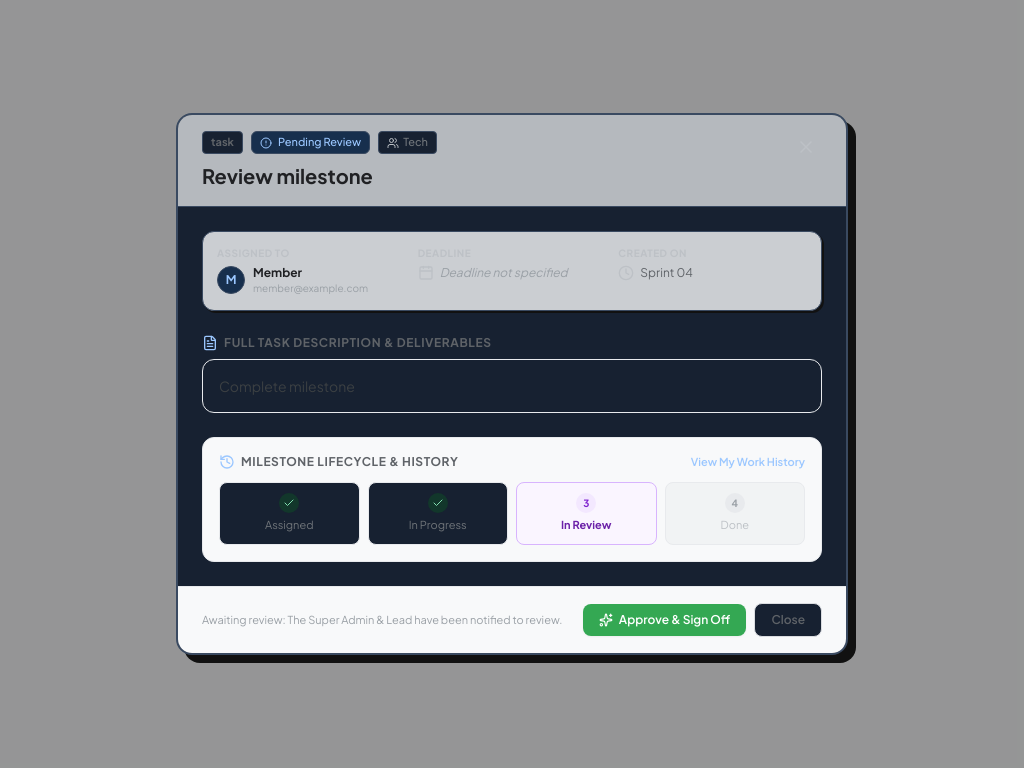
Scenario: keeps the task dialog and error visible when approval is rejected
The width and height of the screenshot is (1024, 768).
Click the button "Approve & Sign Off".
click(665, 620)  # box left=583, top=604, right=746, bottom=636
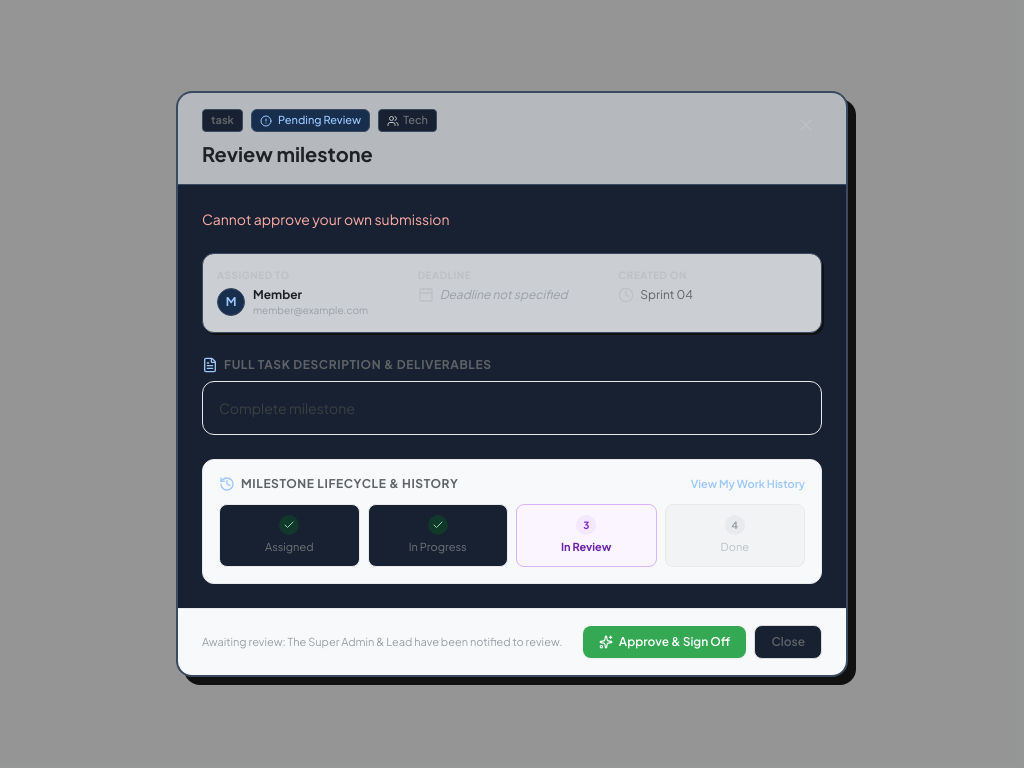
Expected: the message reads "Cannot approve your own submission", left=202, top=210, right=450, bottom=228
